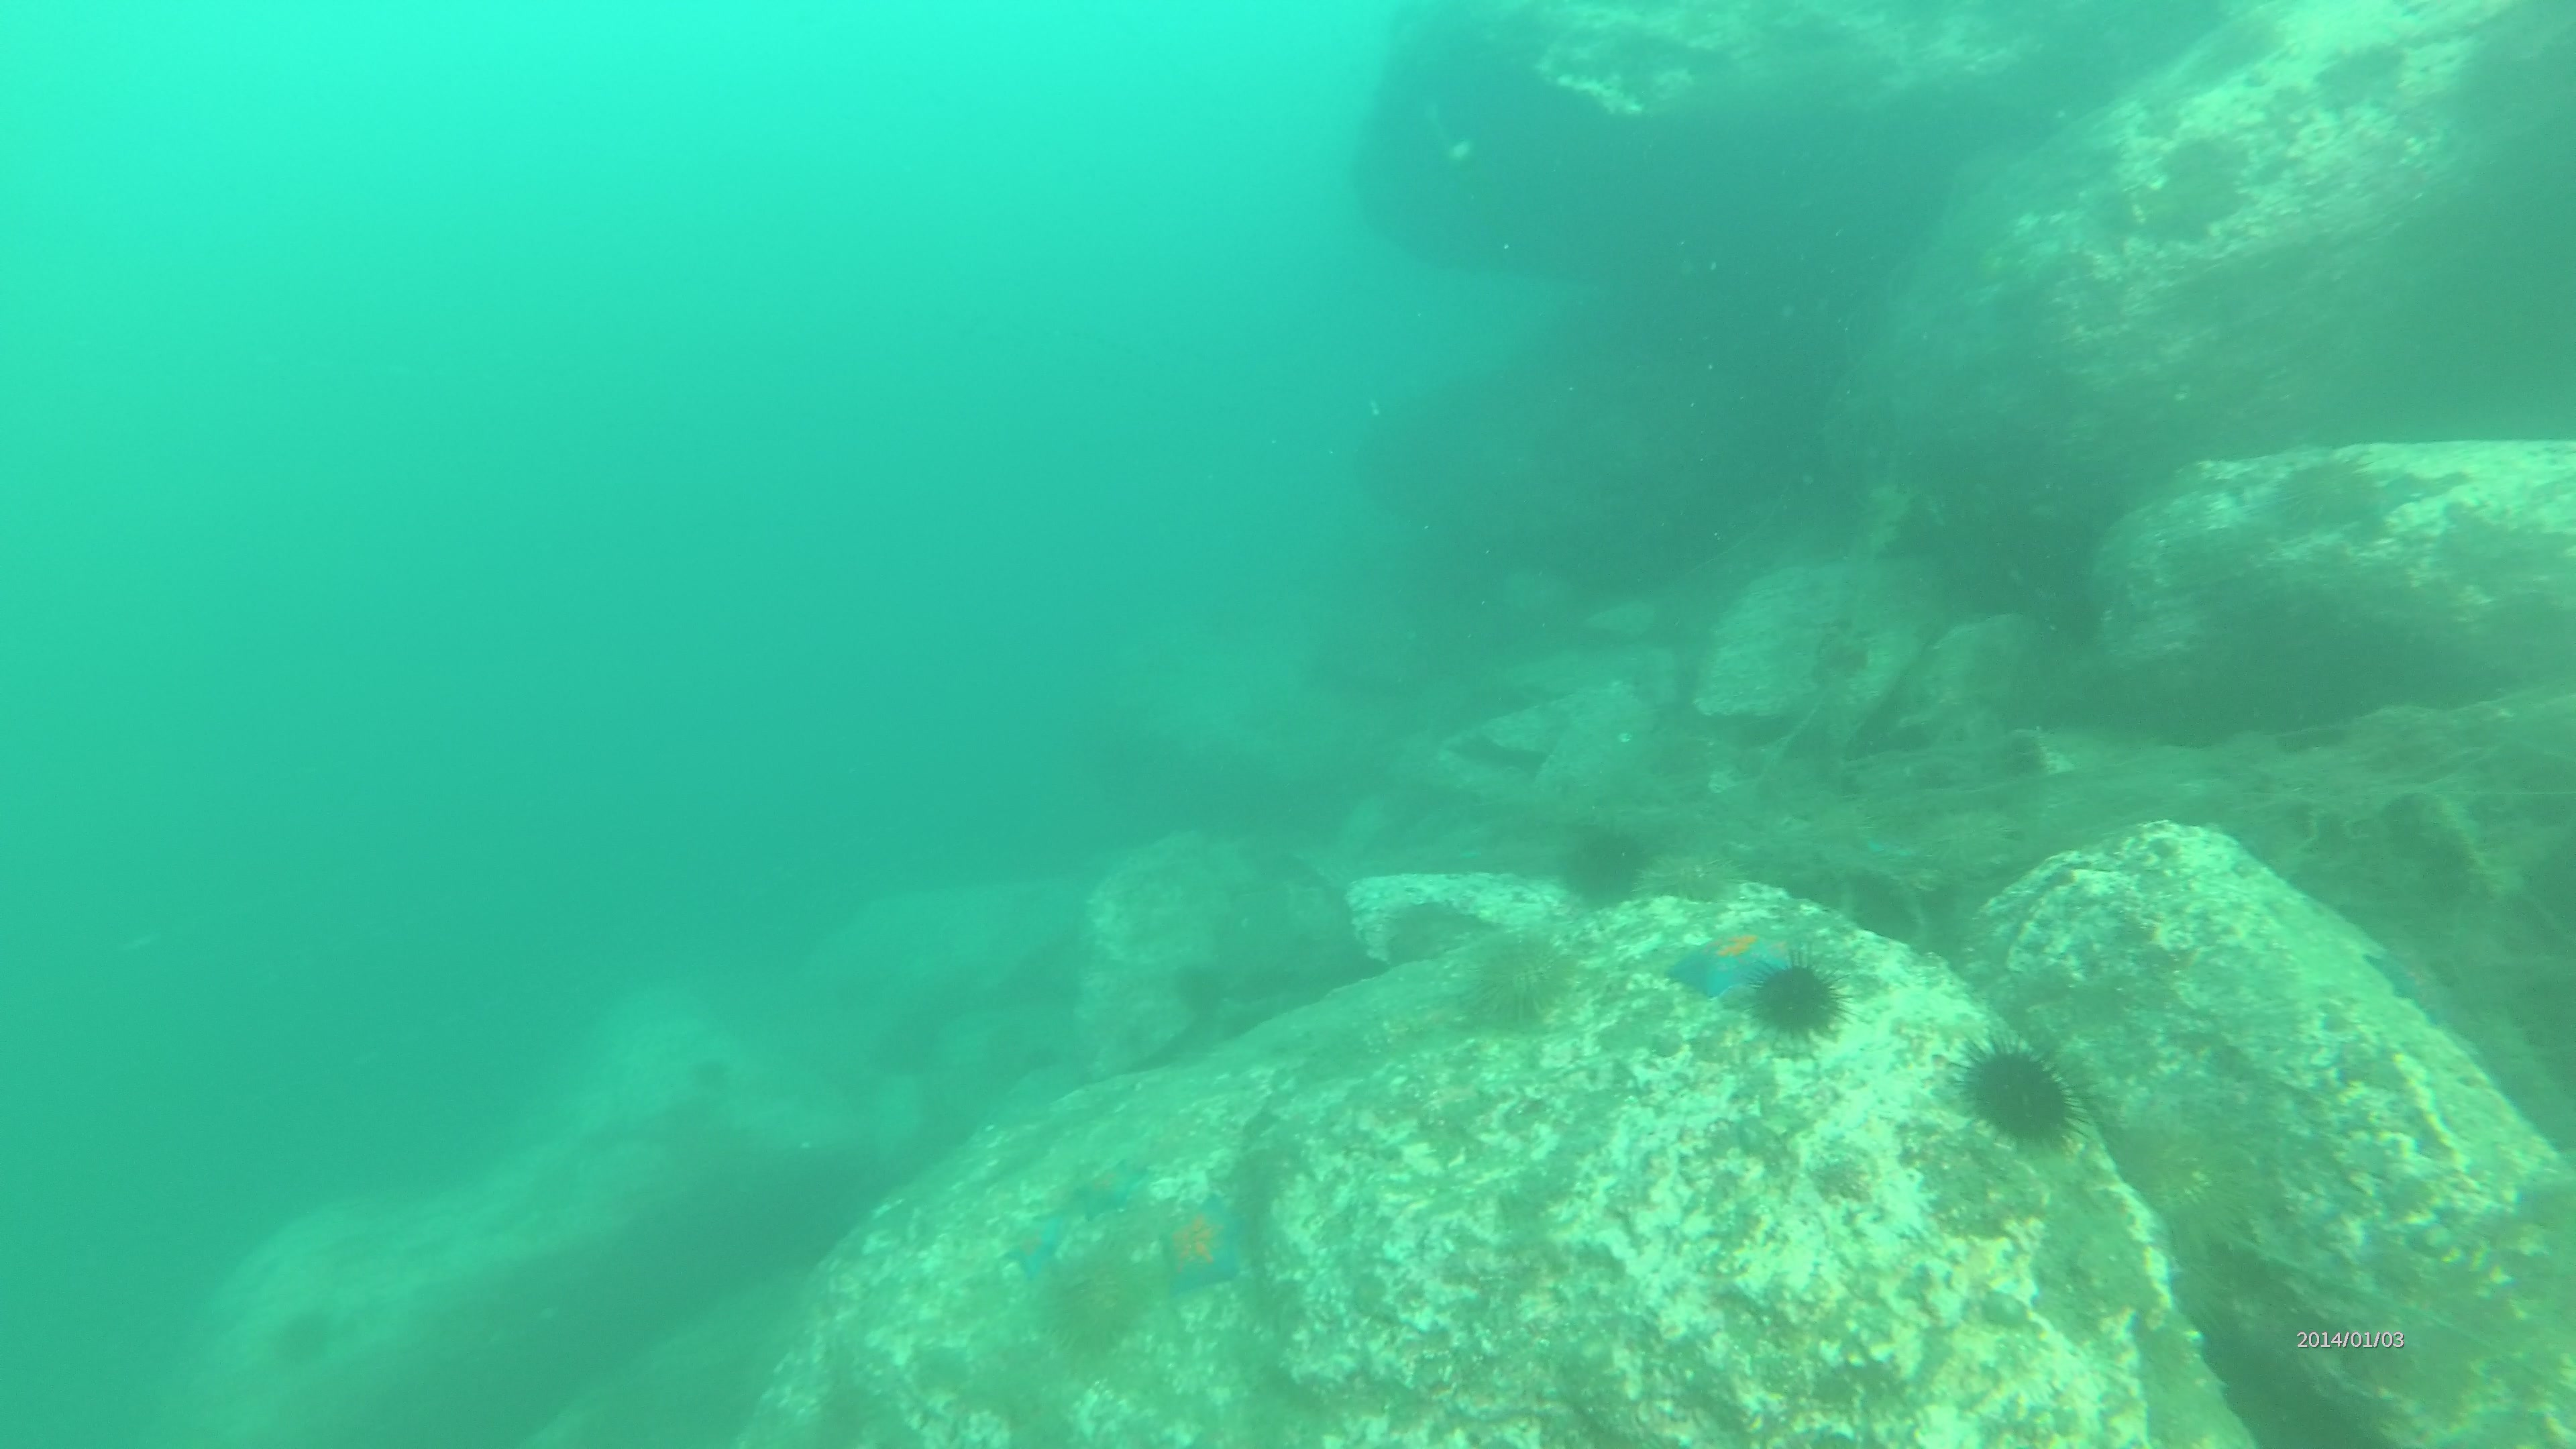echinus: (1957, 1046, 2070, 1145), (2275, 458, 2392, 548), (1762, 962, 1849, 1044), (1562, 823, 1651, 902)
starfish: (1155, 1198, 1251, 1290), (1672, 929, 1780, 1008), (1065, 1164, 1150, 1226), (1001, 1207, 1072, 1274)
